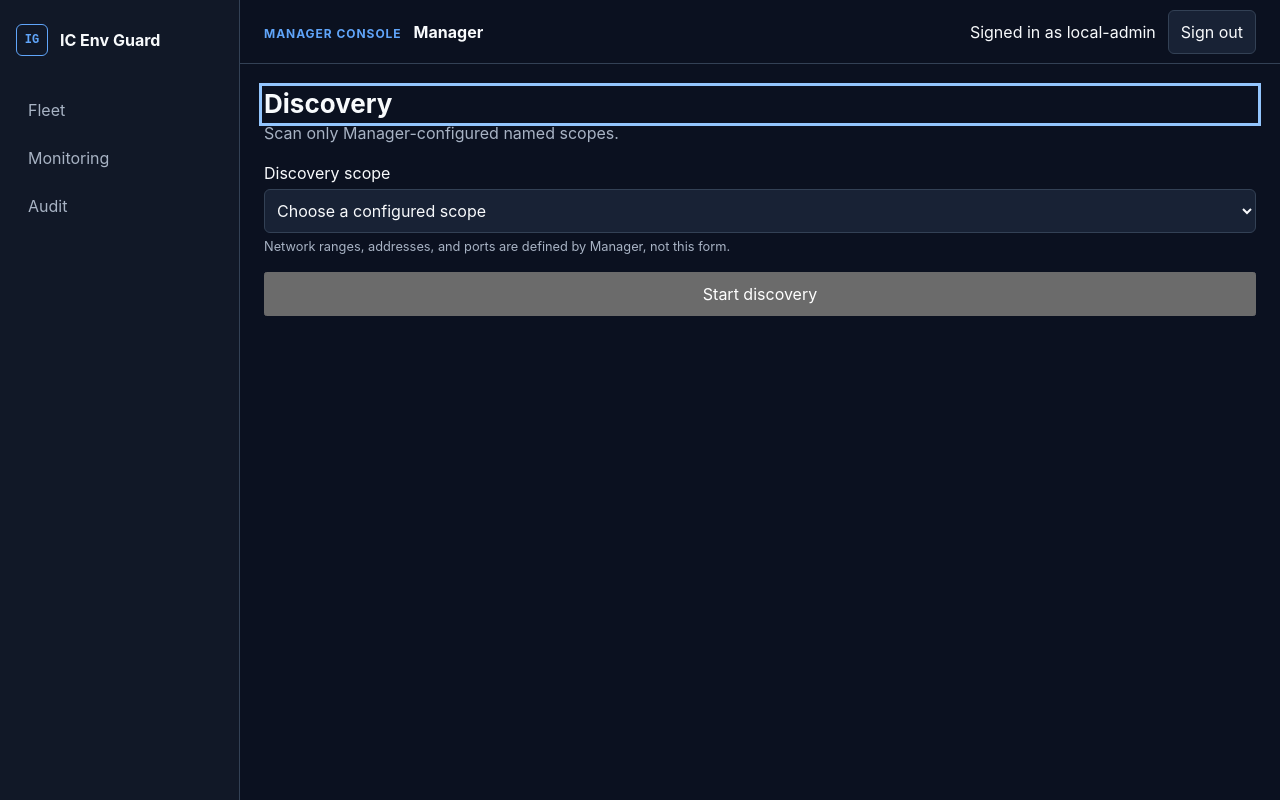
Test: Discovery flow › refetches partial results when a discovery job reaches a result-bearing terminal state
Select "Lab rack (2 targets)" in the dropdown labelled "Discovery scope" at (760, 210), box [264,188,1256,232]
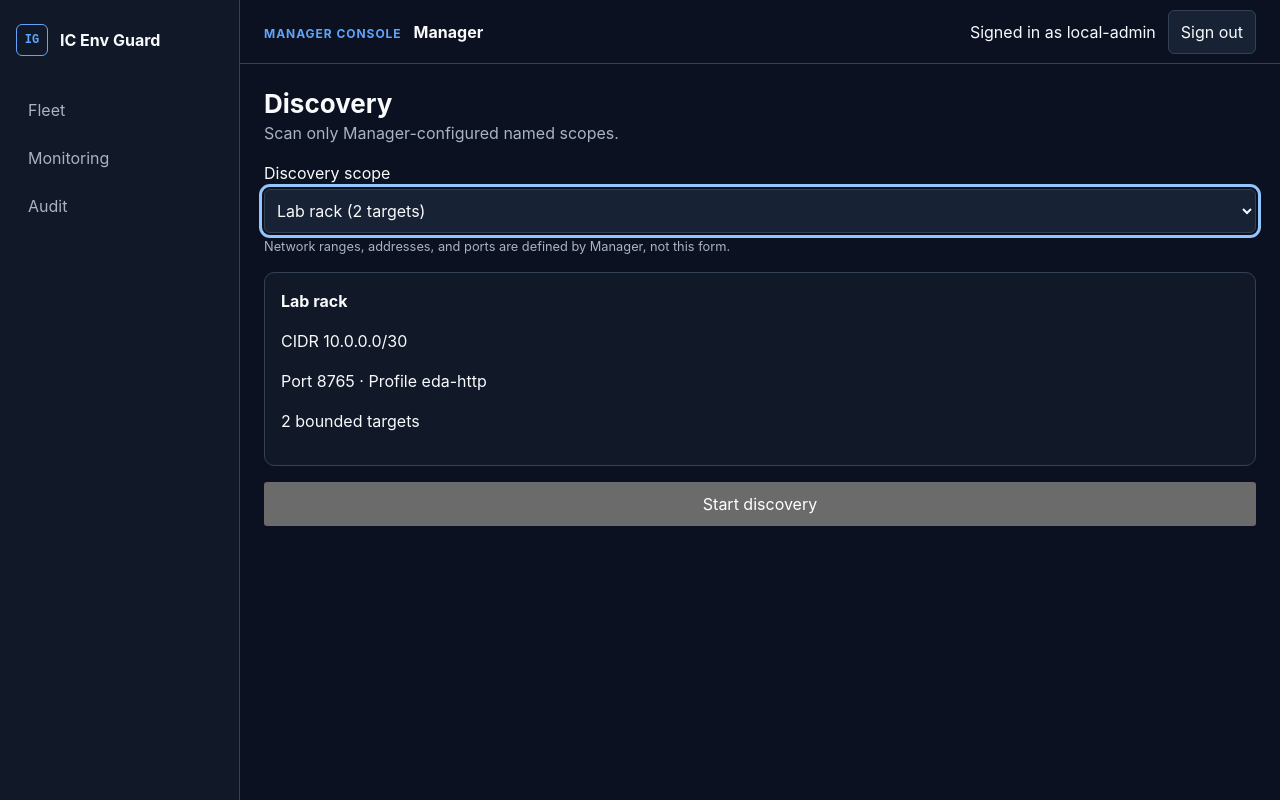
Click the button "Start discovery".
click(760, 504)  # box [264,482,1256,526]
(page scrolled)
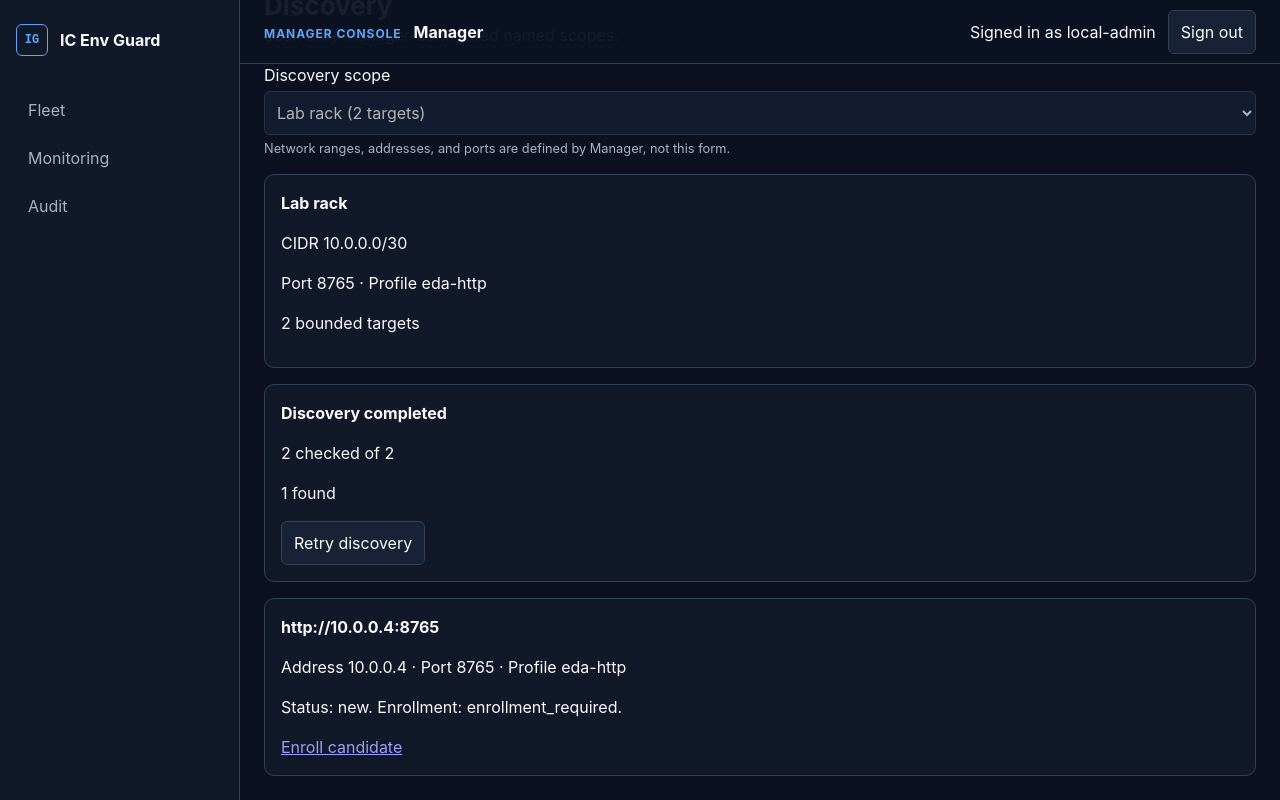
Expected: the link "Enroll candidate" is shown, [281,737,402,757]
